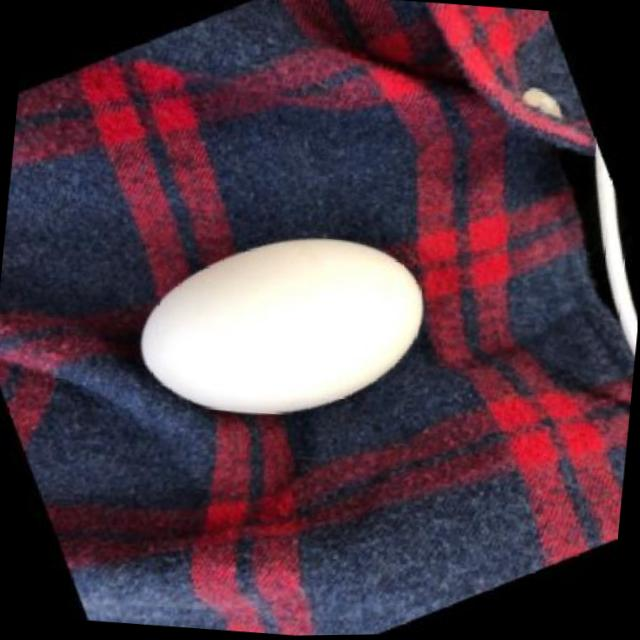egg: (132, 219, 435, 432)
